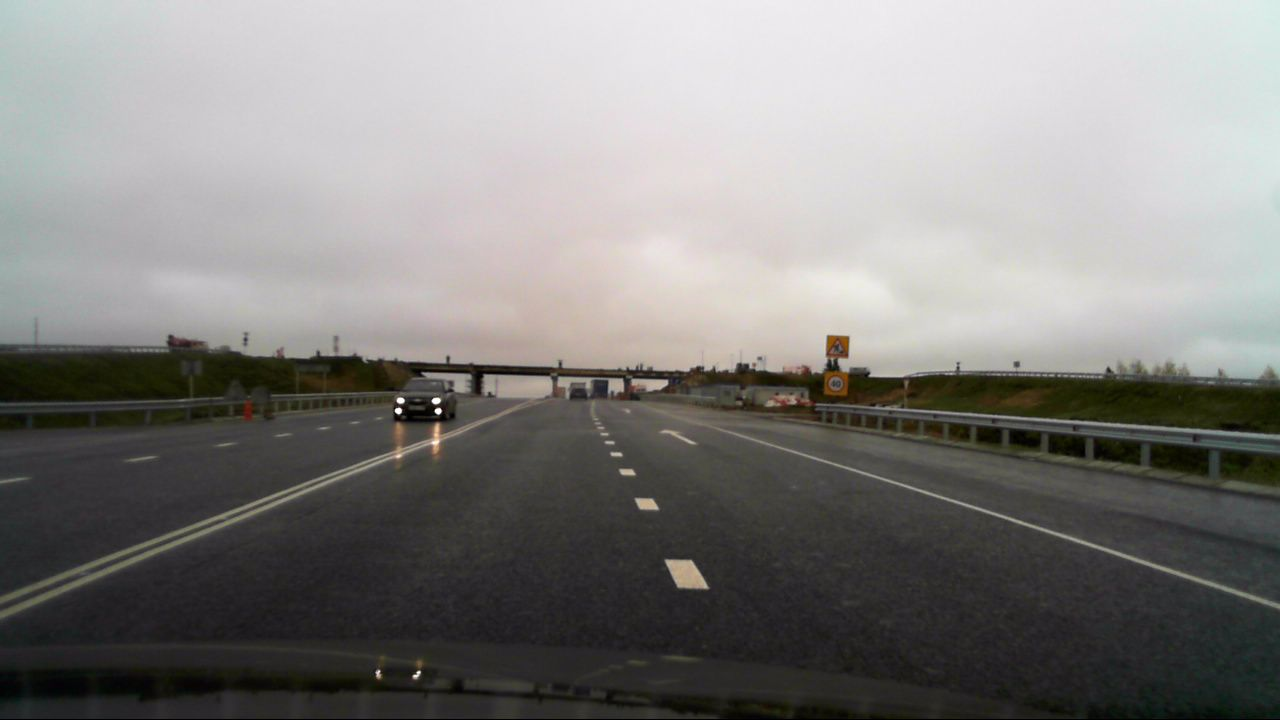speed_warning_40: (824, 371, 848, 395)
